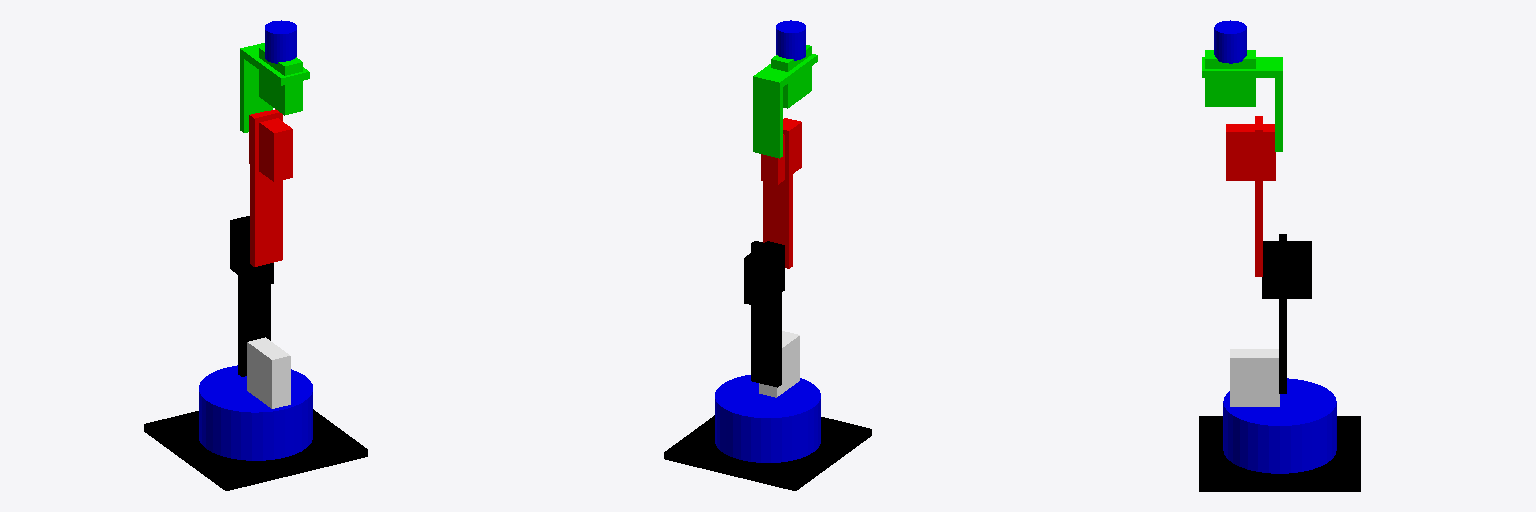
robot.urdf — RobotArm:
<?xml version="1.0"?>
<robot name="RobotArm">

    <material name="blue">
        <color rgba="0 0 1 1"/>
    </material>
    <material name="red">
        <color rgba="1 0 0 1"/>
    </material>
    <material name="green">
        <color rgba="0 1 0 1"/>
    </material>
    <material name="black">
        <color rgba="0 0 0 1"/>
    </material>
    <material name="white">
        <color rgba="1 1 1 1"/>
    </material>

    <link name="base_link">
        <visual>
            <geometry>
                <box size="0.10 0.10 0.005"/>
            </geometry>
            <origin xyz="0.0 0.0 0.0025"/>
            <material name="black"/>
        </visual>
        <collision>
            <geometry>
                <box size="0.10 0.10 0.005"/>
            </geometry>
            <origin xyz="0.0 0.0 0.0025"/>
            <material name="black"/>
        </collision>
    </link>

    <joint name="joint_0" type="revolute">
        <parent link="base_link"/>
        <child link="base_disc"/>
        <origin xyz="0.0 0.0 0.0025"/>
        <axis xyz="0 0 1"/>
        <limit effort="1000" lower="-1.57" upper="1.57" velocity="5"/>
    </joint>

    <link name="base_disc">
        <visual>
            <geometry>
                <cylinder length="0.035" radius="0.035"/>
            </geometry>
            <origin xyz="0.0 0.0 0.0175"/>
            <material name="blue"/>
        </visual>
        <collision>
            <geometry>
                <cylinder length="0.035" radius="0.035"/>
            </geometry>
            <origin xyz="0.0 0.0 0.0175"/>
            <material name="blue"/>
        </collision>
    </link>

    <joint name="joint_base_disc_link_0" type="fixed">
        <parent link="base_disc"/>
        <child link="link_0"/>
        <origin xyz="0.0 -0.0155 0.035"/>

    </joint>

    <link name="link_0">
        <visual>
            <geometry>
                <box size="0.013 0.031 0.033"/>
            </geometry>
            <origin xyz="0.0 0.0 0.0165"/>
            <material name="white"/>
        </visual>
        <collision>
            <geometry>
                <box size="0.013 0.031 0.033"/>
            </geometry>
            <origin xyz="0.0 0.0 0.0165"/>
            <material name="white"/>
        </collision>
    </link>

    <joint name="joint_1" type="revolute">
        <parent link="link_0"/>
        <child link="link_1"/>
        <origin xyz="0.0 0.020 0.02"/>
        <axis xyz="0 1 0"/>
        <limit effort="1000" lower="-1.57" upper="1.57" velocity="5"/>
    </joint>

    <link name="link_1">
        <visual>
            <geometry>
                <box size="0.020 0.005 0.10"/>
            </geometry>
            <origin xyz="0.0 -0.0025 0.040"/>
            <material name="black"/>
        </visual>
        <collision>
            <geometry>
                <box size="0.020 0.005 0.10"/>
            </geometry>
            <origin xyz="0.0 -0.0025 0.040"/>
            <material name="black"/>
        </collision>
    </link>

    <joint name="joint_link_1_servo_3" type="fixed">
        <parent link="link_1"/>
        <child link="servo_3"/>
        <origin xyz="0.0 0.0 0.0"/>
    </joint>

    <link name="servo_3">
        <visual>
            <geometry>
                <box size="0.013 0.031 0.033"/>
            </geometry>
            <origin xyz="0.0 0.0 0.070"/>
            <material name="black"/>
        </visual>
        <collision>
            <geometry>
                <box size="0.013 0.031 0.033"/>
            </geometry>
            <origin xyz="0.0 0.0 0.070"/>
            <material name="black"/>
        </collision>
    </link>

    <joint name="joint_2" type="revolute">
        <parent link="servo_3"/>
        <child link="link_2"/>
        <origin xyz="0.0 -0.0175 0.08"/>
        <axis xyz="0 1 0"/>
        <limit effort="1000" lower="-1.57" upper="1.57" velocity="5"/>
    </joint>

    <link name="link_2">
        <visual>
            <geometry>
                <box size="0.020 0.005 0.10"/>
            </geometry>
            <origin xyz="0.0 0.0 0.04"/>
            <material name="red"/>
        </visual>
        <collision>
            <geometry>
                <box size="0.020 0.005 0.10"/>
            </geometry>
            <origin xyz="0.0 0.0 0.04"/>
            <material name="red"/>
        </collision>
    </link>

    <joint name="joint_link_2_servo_4" type="fixed">
        <parent link="link_2"/>
        <child link="servo_4"/>
        <origin xyz="0.0 -0.005 0.0"/>
    </joint>

    <link name="servo_4">
        <visual>
            <geometry>
                <box size="0.013 0.031 0.033"/>
            </geometry>
            <origin xyz="0.0 0.0 0.070"/>
            <material name="red"/>
        </visual>
        <collision>
            <geometry>
                <box size="0.013 0.031 0.033"/>
            </geometry>
            <origin xyz="0.0 0.0 0.070"/>
            <material name="red"/>
        </collision>
    </link>

    <joint name="joint_3" type="revolute">
        <parent link="servo_4"/>
        <child link="link_3"/>
        <origin xyz="0.0 0.0175 0.08"/>
        <axis xyz="0 1 0"/>
        <limit effort="1000" lower="-1.57" upper="1.57" velocity="5"/>
    </joint>

    <link name="link_3">
        <visual>
            <geometry>
                <box size="0.020 0.005 0.05"/>
            </geometry>
            <origin xyz="0.0 0.0 0.02"/>
            <material name="green"/>
        </visual>
        <collision>
            <geometry>
                <box size="0.020 0.005 0.05"/>
            </geometry>
            <origin xyz="0.0 0.0 0.02"/>
            <material name="green"/>
        </collision>
    </link>

    <joint name="joint_link_3_link3b" type="fixed">
        <parent link="link_3"/>
        <child link="link_3b"/>
        <origin xyz="0.0 -0.0225 0.0475"/>
    </joint>

    <link name="link_3b">
        <visual>
            <geometry>
                <box size="0.02 0.05 0.005"/>
            </geometry>
            <origin xyz="0.0 0.0 0.00"/>
            <material name="green"/>
        </visual>
        <collision>
            <geometry>
                <box size="0.02 0.05 0.005"/>
            </geometry>
            <origin xyz="0.0 0.0 0.00"/>
            <material name="green"/>
        </collision>
    </link>

    <joint name="joint_link_3b_servo_5" type="fixed">
        <parent link="link_3"/>
        <child link="servo_5"/>
        <origin xyz="0.0 -0.030 0.0"/>
    </joint>

    <link name="servo_5">
        <visual>
            <geometry>
                <box size="0.013 0.031 0.033"/>
            </geometry>
            <origin xyz="0.0 0.0 0.040"/>
            <material name="green"/>
        </visual>
        <collision>
            <geometry>
                <box size="0.013 0.031 0.033"/>
            </geometry>
            <origin xyz="0.0 0.0 0.040"/>
            <material name="green"/>
        </collision>
    </link>

    <joint name="joint_4" type="revolute">
        <parent link="servo_5"/>
        <child link="ee_link"/>
        <origin xyz="0.0 0.0 0.04"/>
        <axis xyz="0 0 1"/>
        <limit effort="1000" lower="-1.57" upper="1.57" velocity="5"/>
    </joint>

    <link name="ee_link">
        <visual>
            <geometry>
                <cylinder length="0.02" radius="0.01"/>
            </geometry>
            <origin xyz="0.0 0.0 0.025"/>
            <material name="blue"/>
        </visual>
        <collision>
            <geometry>
                <cylinder length="0.02" radius="0.01"/>
            </geometry>
            <origin xyz="0.0 0.0 0.025"/>
            <material name="blue"/>
        </collision>
    </link>

</robot>

--- Render facts (derived) ---
The picture shows the robot from 3 angles, left to right: view 1: azimuth 30°, elevation 25°; view 2: azimuth 150°, elevation 25°; view 3: azimuth 270°, elevation 25°; orthographic projection.
Robot: RobotArm — 11 links, 10 joints (5 revolute, 5 fixed); root link base_link; default pose: every joint at zero.
Visible links, largest first — view 1: base_disc, base_link, link_2, link_1, link_0, servo_4, servo_5, link_3, ee_link, servo_3, link_3b; view 2: base_disc, base_link, link_1, link_2, link_3, servo_3, link_0, servo_4, servo_5, ee_link, link_3b; view 3: base_disc, base_link, link_0, servo_3, servo_4, servo_5, ee_link, link_2, link_1, link_3b, link_3.
Link boxes in pixels (bbox=[...]): base_disc: bbox=[199, 365, 312, 460]; base_link: bbox=[144, 409, 367, 490]; link_2: bbox=[250, 109, 282, 266]; link_1: bbox=[238, 223, 270, 376]; link_0: bbox=[247, 337, 290, 408]; servo_4: bbox=[249, 111, 292, 181]; servo_5: bbox=[259, 47, 302, 115]; link_3: bbox=[240, 56, 272, 132]; ee_link: bbox=[265, 20, 296, 63]; servo_3: bbox=[230, 216, 273, 287]; link_3b: bbox=[240, 43, 309, 85]; base_disc: bbox=[715, 375, 820, 462]; base_link: bbox=[664, 415, 871, 490]; link_1: bbox=[751, 241, 781, 387]; link_2: bbox=[763, 126, 792, 268]; link_3: bbox=[753, 83, 782, 158]; servo_3: bbox=[744, 241, 784, 307]; link_0: bbox=[759, 331, 799, 397]; servo_4: bbox=[761, 118, 801, 184]; servo_5: bbox=[771, 45, 811, 108]; ee_link: bbox=[776, 20, 805, 60]; link_3b: bbox=[753, 54, 817, 89]; base_disc: bbox=[1223, 378, 1336, 473]; base_link: bbox=[1199, 416, 1360, 491]; link_0: bbox=[1230, 349, 1279, 406]; servo_3: bbox=[1262, 241, 1311, 298]; servo_4: bbox=[1226, 124, 1275, 180]; servo_5: bbox=[1205, 50, 1255, 106]; ee_link: bbox=[1214, 20, 1246, 63]; link_2: bbox=[1255, 116, 1262, 276]; link_1: bbox=[1279, 234, 1286, 393]; link_3b: bbox=[1202, 57, 1282, 77]; link_3: bbox=[1275, 78, 1282, 151].
Bounding box of the posed robot: 0.1 × 0.1 × 0.2925 m (x, y, z).
Geometry: primitives only (box / cylinder / sphere), no mesh files.